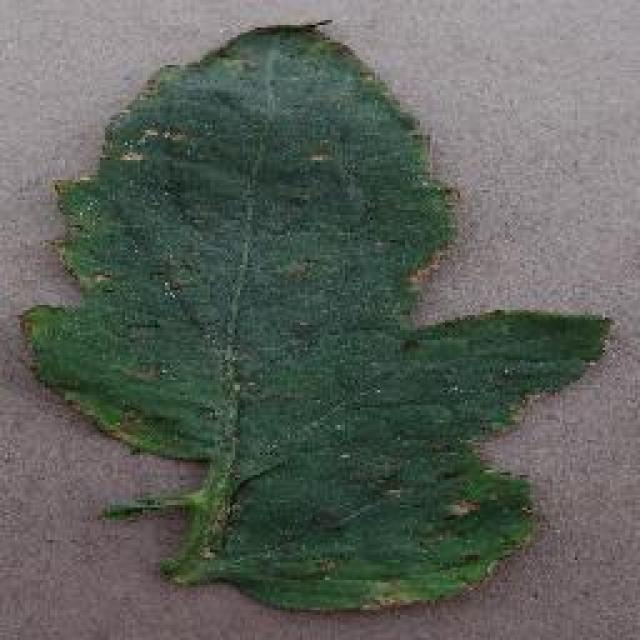Tomato bacterial spot leaf: (32, 31, 598, 604)
